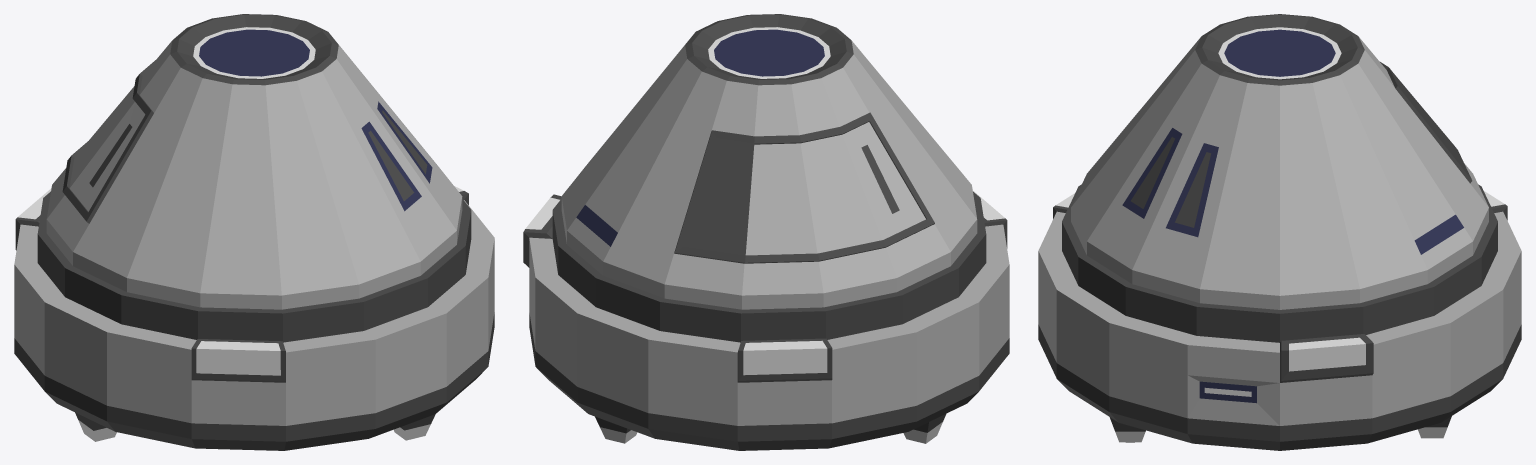
Rendered from SM_StartCapsule.fbx.
3 renders of one model, left to right at view 1: azimuth 30°, elevation 25°; view 2: azimuth 150°, elevation 25°; view 3: azimuth 270°, elevation 25°, orthographic.
Parts seen in each view (by area): view 1: Cylinder; view 2: Cylinder; view 3: Cylinder.
Boxes of the visible parts, box(x1,y1,x2,y2) form: Cylinder: box(14, 14, 494, 450); Cylinder: box(523, 14, 1009, 450); Cylinder: box(1038, 14, 1521, 450).
Bounding box in the file's own units: 886 × 708 × 875.
